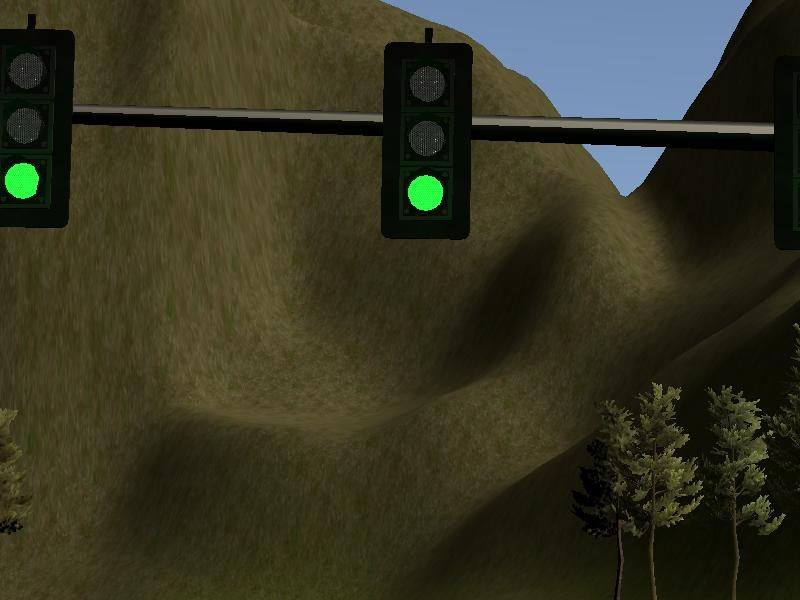GREEN: (382, 43, 472, 240), (1, 30, 70, 226)
